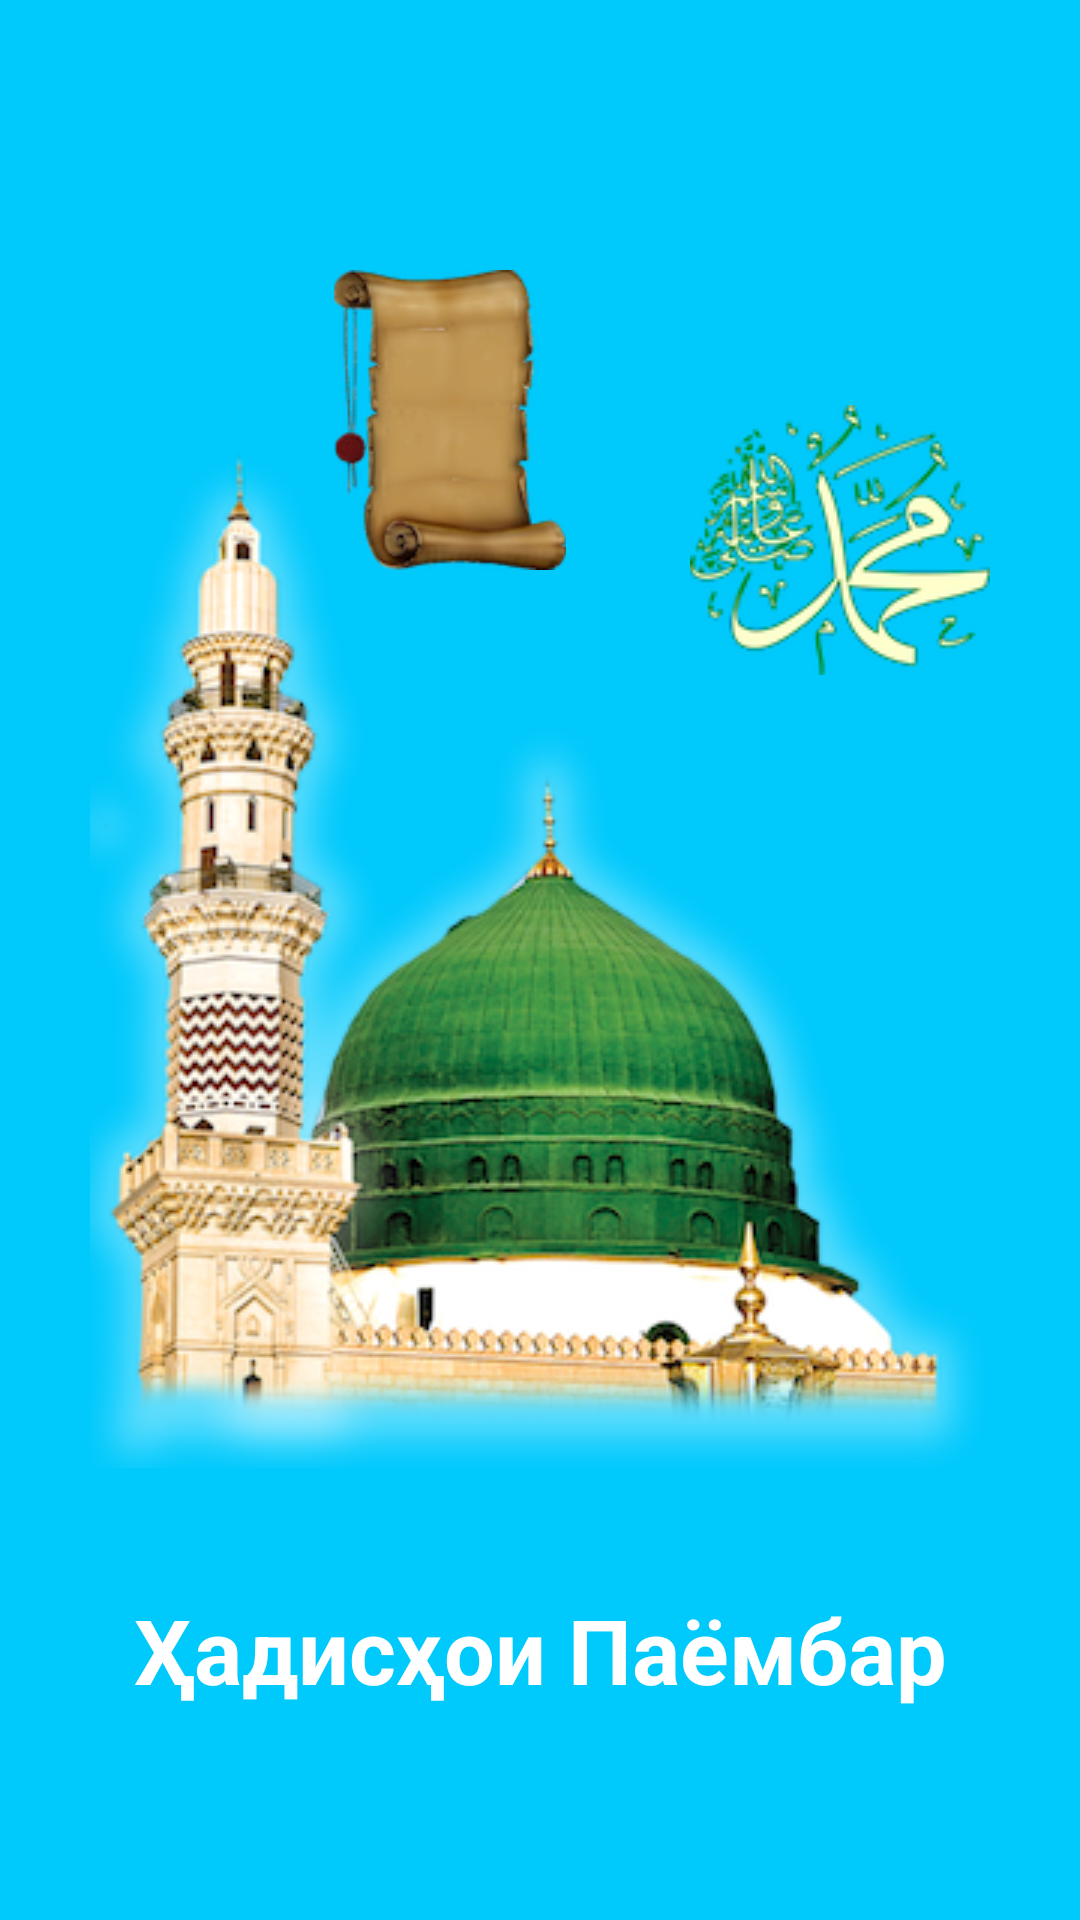

Icons on this 1080 × 1920 Android screen, each with the point to tap as [x,y]:
intro hadis: [450,420]
